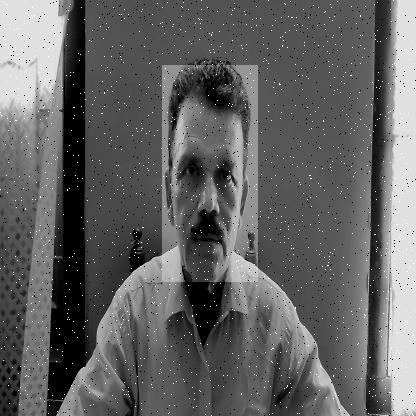Normal: (162, 65, 258, 282)
